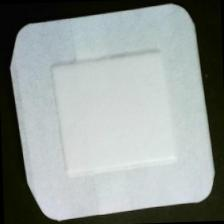Dressing: (8, 2, 217, 224)
